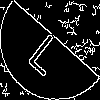L: (25, 25, 73, 78)
